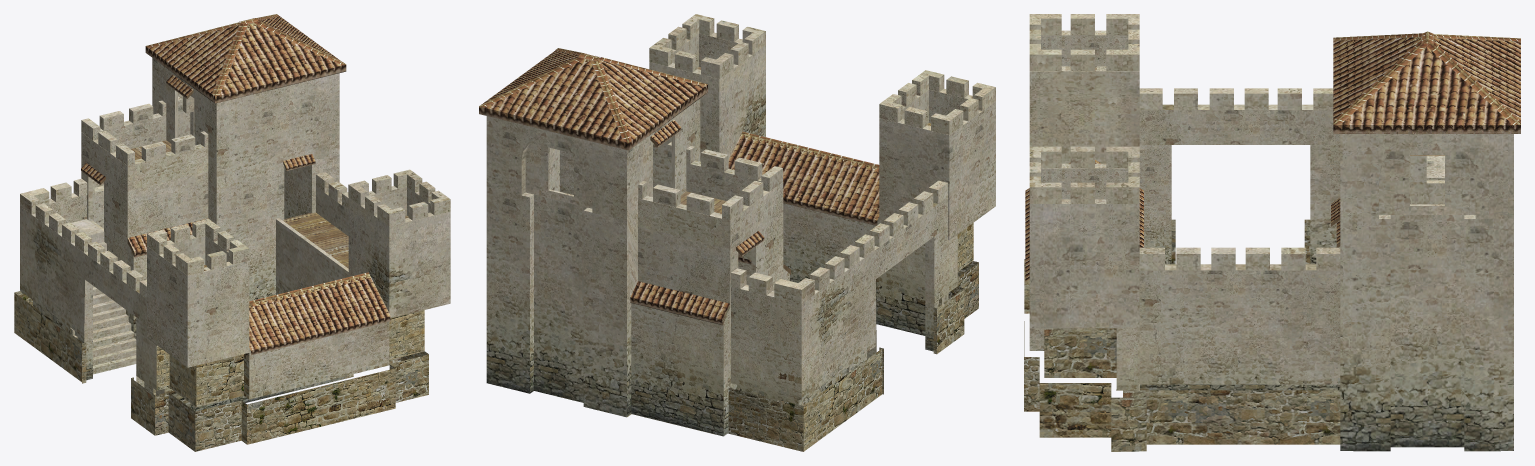
Rendered from hele_fortress.dae.
3 renders of one model, left to right at view 1: azimuth 30°, elevation 25°; view 2: azimuth 150°, elevation 25°; view 3: azimuth 270°, elevation 25°, orthographic. The views are drawn at different scales.
Parts seen in each view (by area): view 1: fortress; view 2: fortress; view 3: fortress.
Boxes of the visible parts, x1=… form: fortress: x1=14, y1=14, x2=450, y2=451; fortress: x1=479, y1=14, x2=995, y2=451; fortress: x1=1024, y1=14, x2=1520, y2=451.
Bounding box in the file's own units: 21.3 × 24.69 × 20.65.
